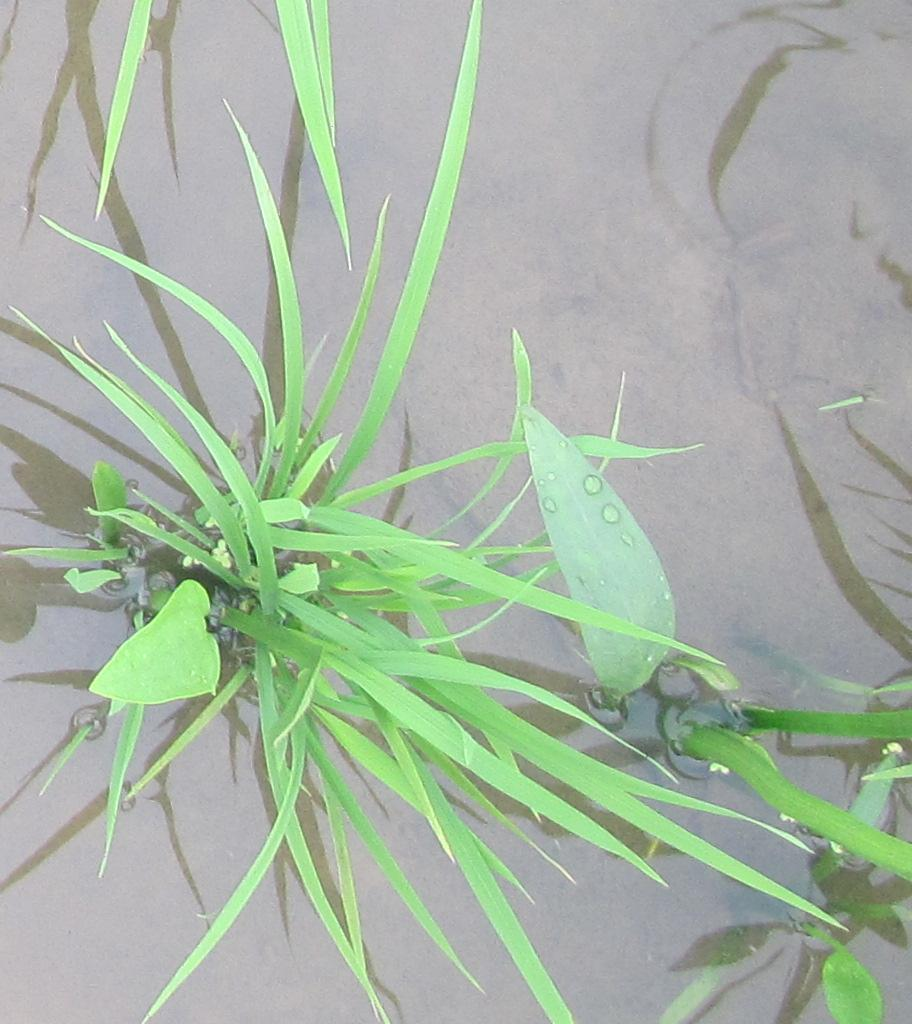Weed: (508, 402, 692, 714), (80, 577, 225, 722)
